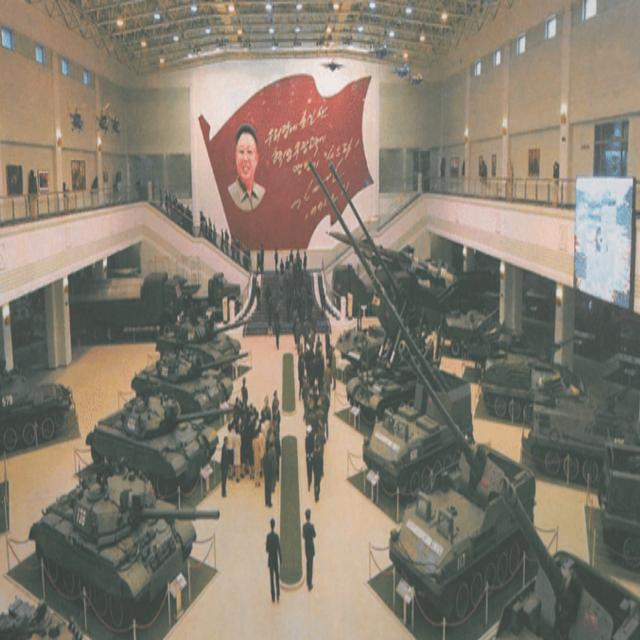north tank: (377, 448, 545, 640), (34, 477, 224, 640), (91, 392, 227, 533), (357, 362, 485, 511), (484, 533, 640, 640), (527, 378, 640, 498), (350, 332, 455, 432), (130, 345, 236, 442), (476, 344, 580, 438), (588, 433, 640, 604), (159, 301, 248, 400), (330, 286, 407, 400), (0, 368, 82, 475), (438, 291, 523, 388)
